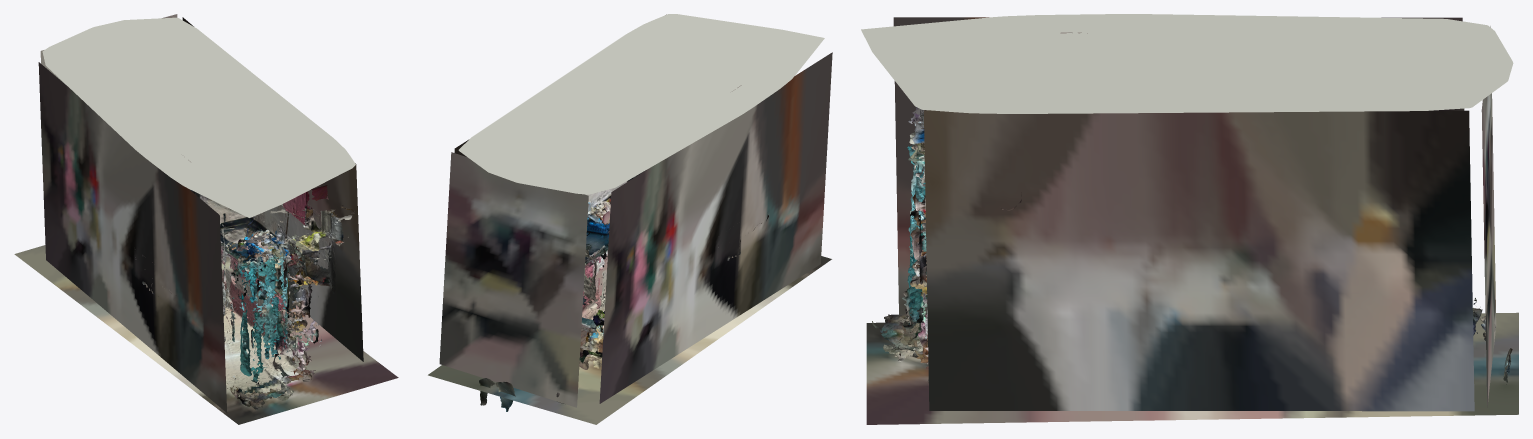
3 views of the same model, side by side, from view 1: azimuth 30°, elevation 25°; view 2: azimuth 150°, elevation 25°; view 3: azimuth 270°, elevation 25° (orthographic). The views are drawn at different scales.
Size of the model in its own units: 2.4 by 3.05 by 5.54.
4 materials, 3 textured.
